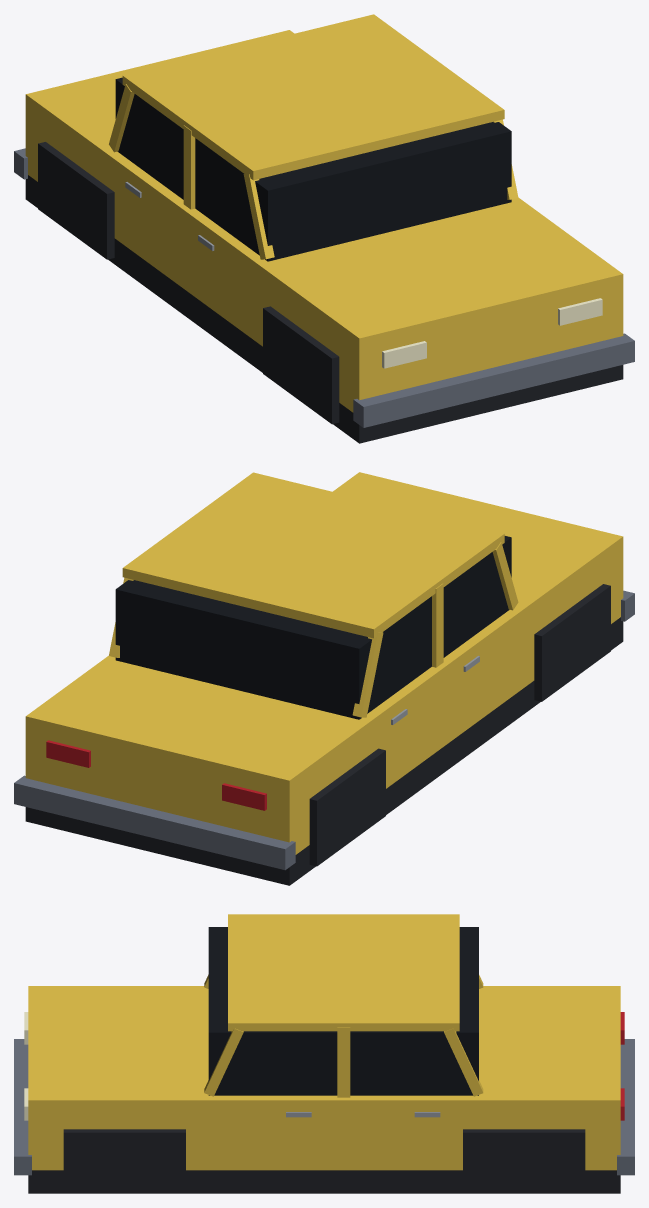
Rendered from traffic_car_1.glb.
3 views of the same model, one above another, from view 1: azimuth 30°, elevation 25°; view 2: azimuth 150°, elevation 25°; view 3: azimuth 270°, elevation 25° (orthographic). The views are drawn at different scales.
Parts seen in each view (by area): view 1: body, body_getaway_glass, body_car_black, body_car_grey, frame, lights_lamp; view 2: body, body_getaway_glass, body_car_black, body_car_grey, frame, lights_tail; view 3: body, body_car_black, body_getaway_glass, body_car_grey, frame.
Boxes of the visible parts, bbox=[...] form: body: bbox=[25, 14, 623, 412]; body_getaway_glass: bbox=[115, 77, 511, 261]; body_car_black: bbox=[25, 142, 623, 443]; body_car_grey: bbox=[14, 148, 634, 427]; frame: bbox=[109, 84, 518, 259]; lights_lamp: bbox=[382, 298, 602, 368]; body: bbox=[25, 472, 623, 854]; body_getaway_glass: bbox=[115, 536, 511, 719]; body_car_black: bbox=[25, 584, 623, 885]; body_car_grey: bbox=[14, 590, 634, 870]; frame: bbox=[109, 542, 518, 717]; lights_tail: bbox=[46, 740, 266, 810]; body: bbox=[28, 914, 620, 1170]; body_car_black: bbox=[28, 1129, 620, 1193]; body_getaway_glass: bbox=[208, 927, 478, 1095]; body_car_grey: bbox=[14, 1039, 634, 1175]; frame: bbox=[204, 974, 483, 1097].
Bounding box in the file's own units: 2.22 × 1.44 × 4.82.
